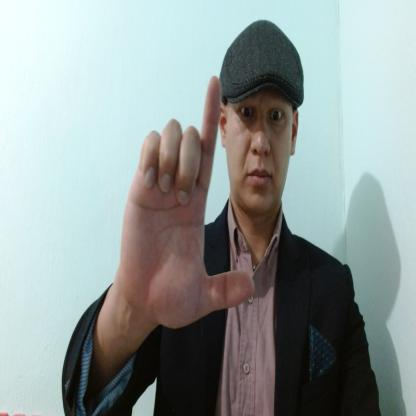L: (122, 76, 257, 328)
